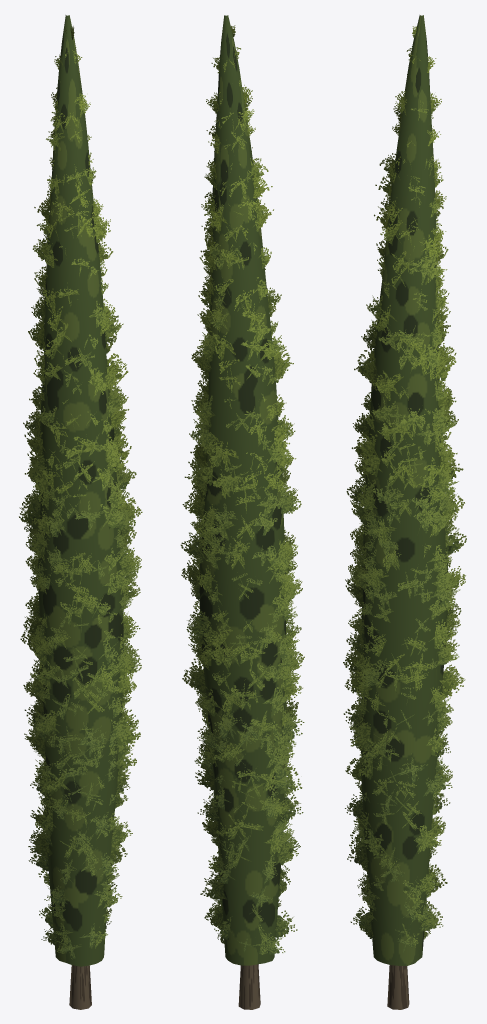
3 views of the same model, side by side, from view 1: azimuth 90°, elevation 25°; view 2: azimuth 150°, elevation 25°; view 3: azimuth 330°, elevation 25° (orthographic).
Parts seen in each view (by area): view 1: Mesh_cypress; view 2: Mesh_cypress; view 3: Mesh_cypress.
Boxes of the visible parts, x1=… form: Mesh_cypress: x1=19, y1=15, x2=142, y2=1009; Mesh_cypress: x1=180, y1=15, x2=304, y2=1009; Mesh_cypress: x1=343, y1=15, x2=466, y2=1009.
Bounding box in the file's own units: 1.42 × 11.5 × 1.4.
1 material, 1 textured.
